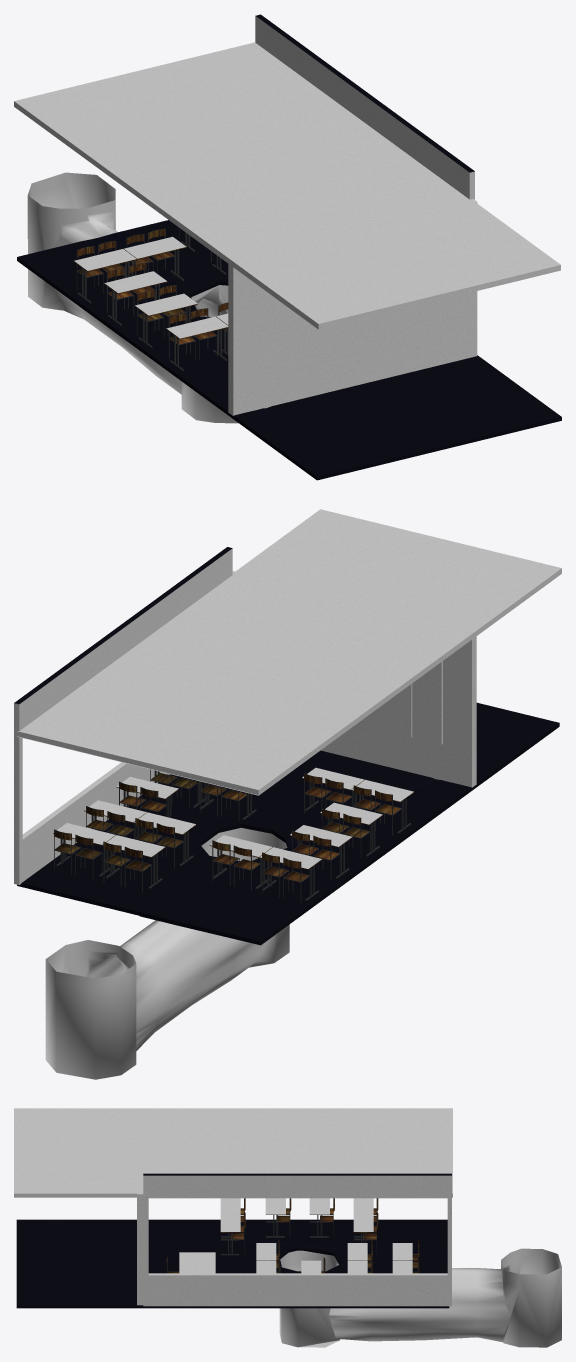
Rendered from salle_classe_bas01.obj.
The picture shows the model from 3 angles, top to bottom: view 1: azimuth 30°, elevation 25°; view 2: azimuth 150°, elevation 25°; view 3: azimuth 270°, elevation 25°; orthographic projection. The views are drawn at different scales.
Visible parts, largest first — view 1: sol_classe.002; view 2: sol_classe.002; view 3: sol_classe.002.
Part boxes in pixels (left/top/right/bottom): sol_classe.002: left=14, top=14, right=561, bottom=480; sol_classe.002: left=14, top=509, right=561, bottom=1079; sol_classe.002: left=14, top=1108, right=561, bottom=1347.
Bounding box in the file's own units: 14.53 × 16.36 × 38.87.
5 materials, 3 textured.
